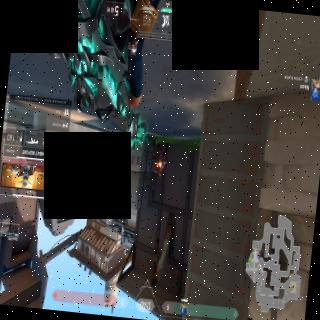ENEMY-BODY: (156, 138, 169, 174)
ENEMY-HEAD: (159, 168, 162, 172)
